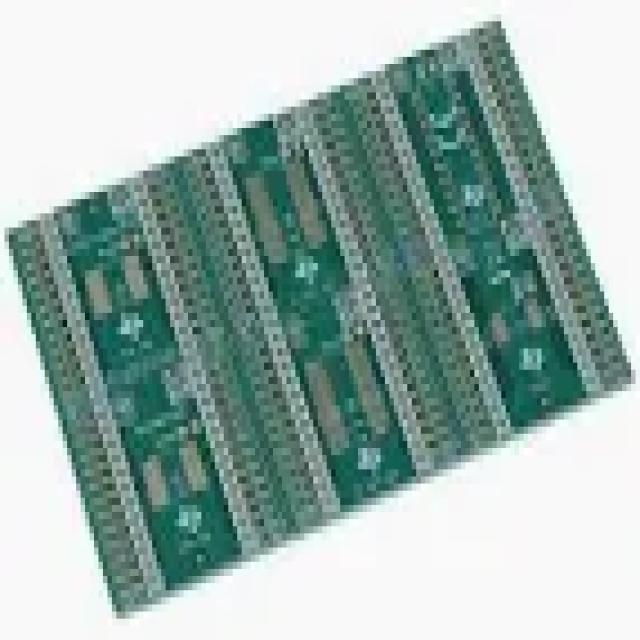pcb: (5, 14, 631, 612)
